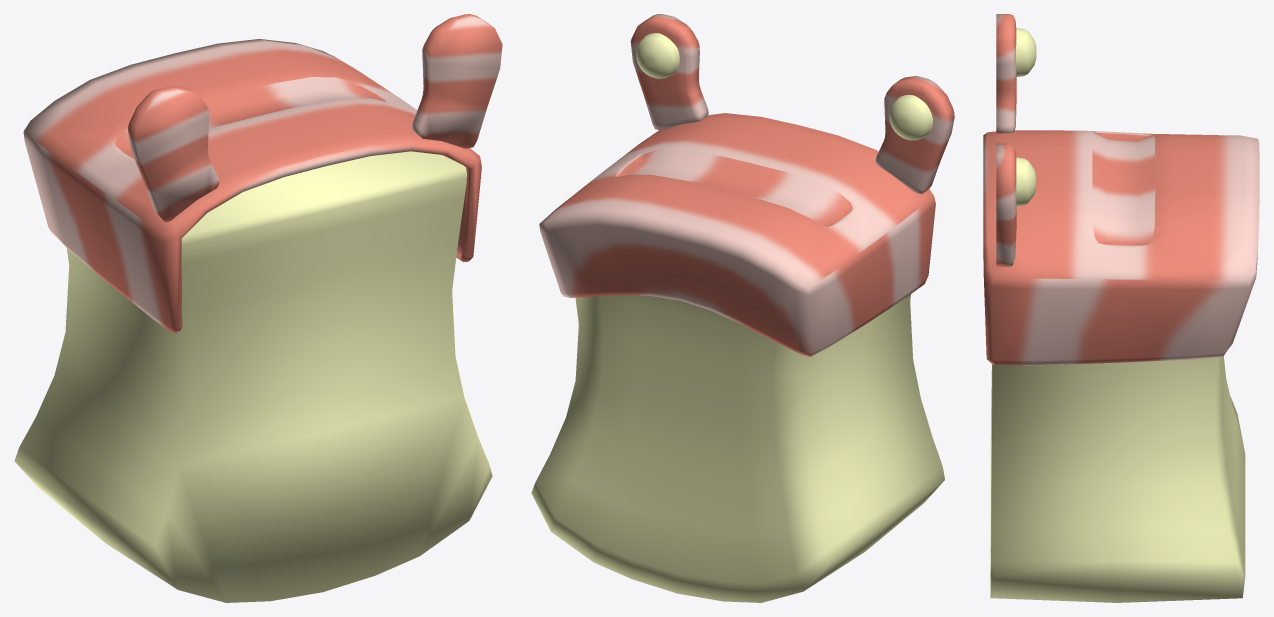
The model's file is MailboxC_blue.fbx.
3 renders of one model, left to right at view 1: azimuth 30°, elevation 25°; view 2: azimuth 150°, elevation 25°; view 3: azimuth 270°, elevation 25°, orthographic. The views are drawn at different scales.
Parts seen in each view (by area): view 1: MailboxC_base, MailboxC_lid; view 2: MailboxC_base, MailboxC_lid, MailboxC_buttons; view 3: MailboxC_lid, MailboxC_base, MailboxC_buttons.
Part boxes in pixels (x1,y1,x2,y2): MailboxC_base: [14, 151, 492, 602]; MailboxC_lid: [23, 14, 502, 333]; MailboxC_base: [531, 294, 944, 602]; MailboxC_lid: [539, 14, 954, 356]; MailboxC_buttons: [636, 33, 933, 140]; MailboxC_lid: [983, 14, 1259, 365]; MailboxC_base: [990, 356, 1245, 602]; MailboxC_buttons: [1016, 28, 1036, 206].
Bounding box in the file's own units: 114 × 160 × 82.11.
